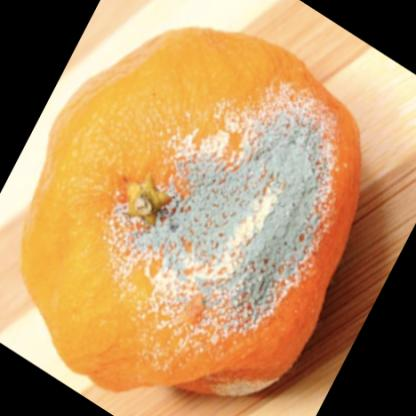rotten: (18, 29, 360, 398)
